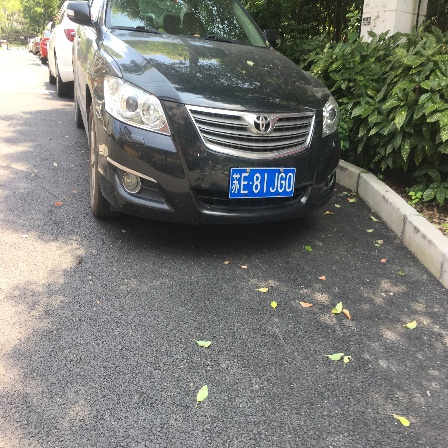plate: (224, 159, 300, 206)
